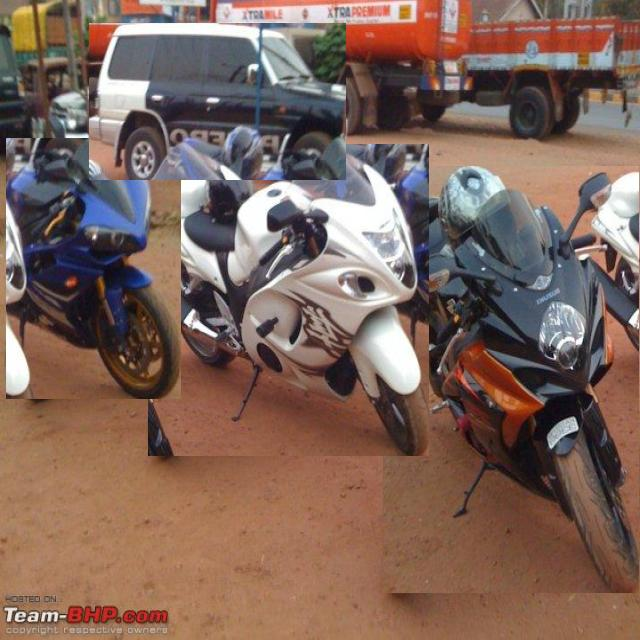car: (89, 24, 346, 180)
motorcycle: (384, 167, 639, 593), (149, 145, 429, 456), (6, 139, 181, 399)
